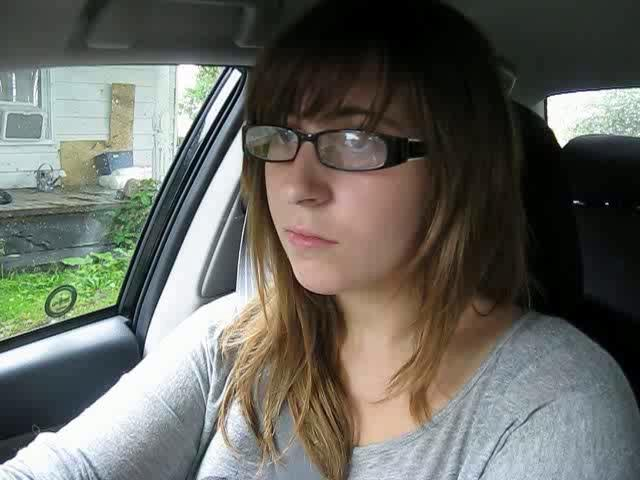no_yawn: (269, 215, 353, 264)
open_eyeL: (258, 122, 304, 158)
open_eyeR: (318, 119, 396, 168)
